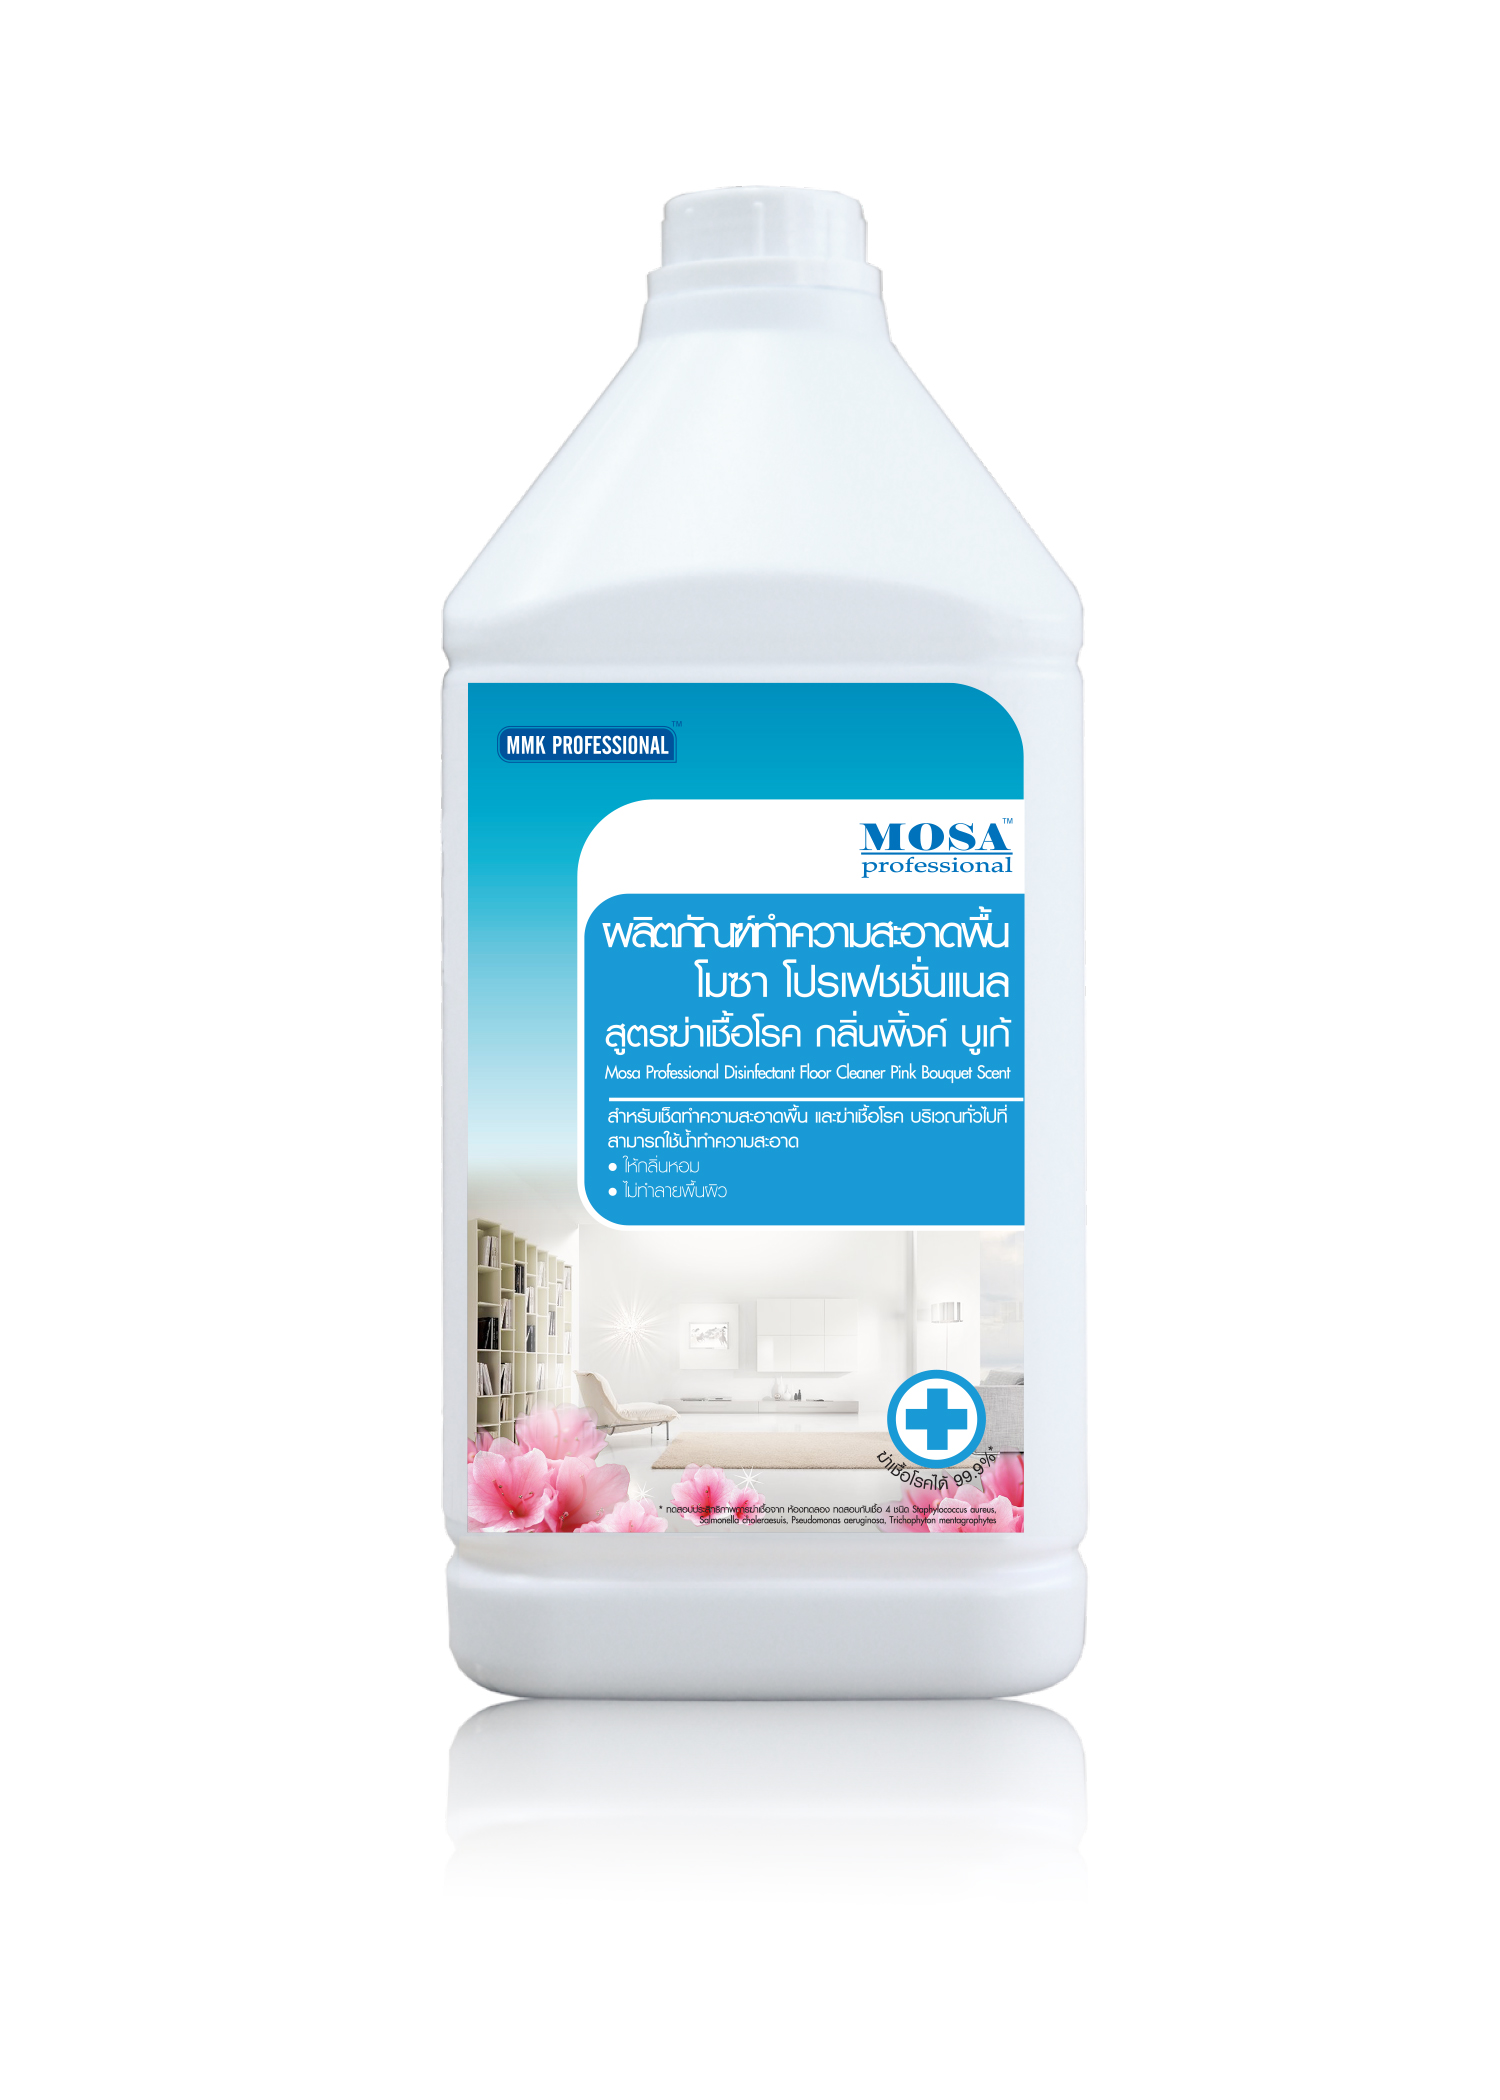Cleaning_solution: (398, 169, 1106, 1720)
